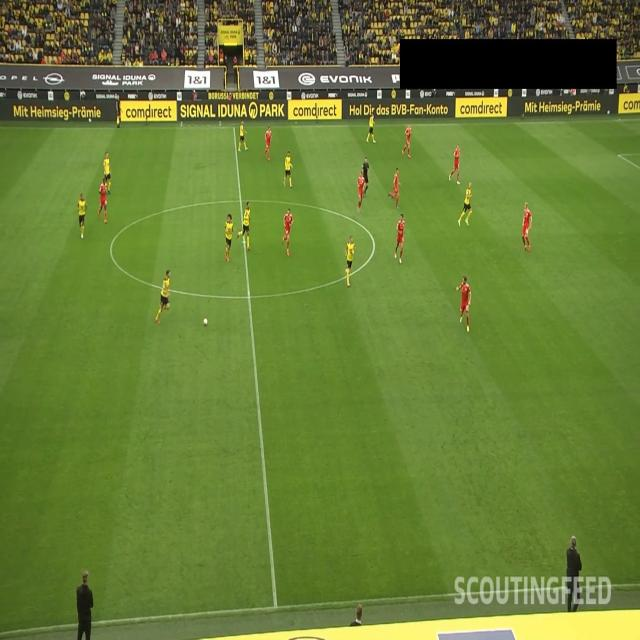ball: (202, 316, 208, 328)
